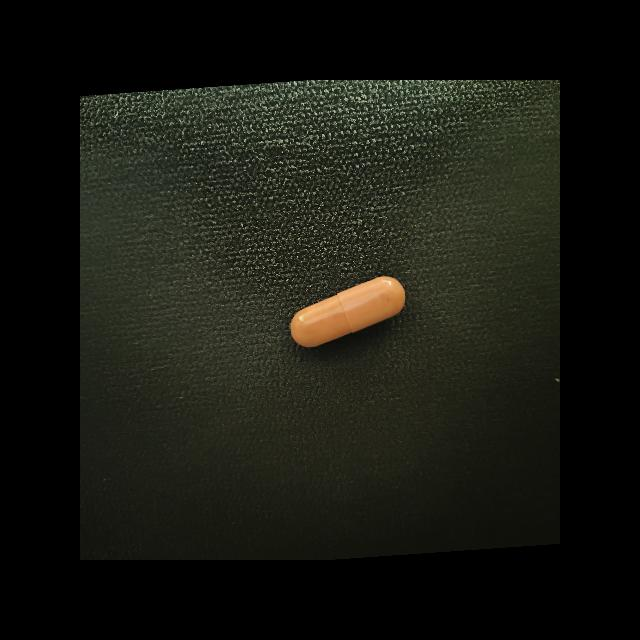Intact Capsule: (290, 276, 405, 347)
